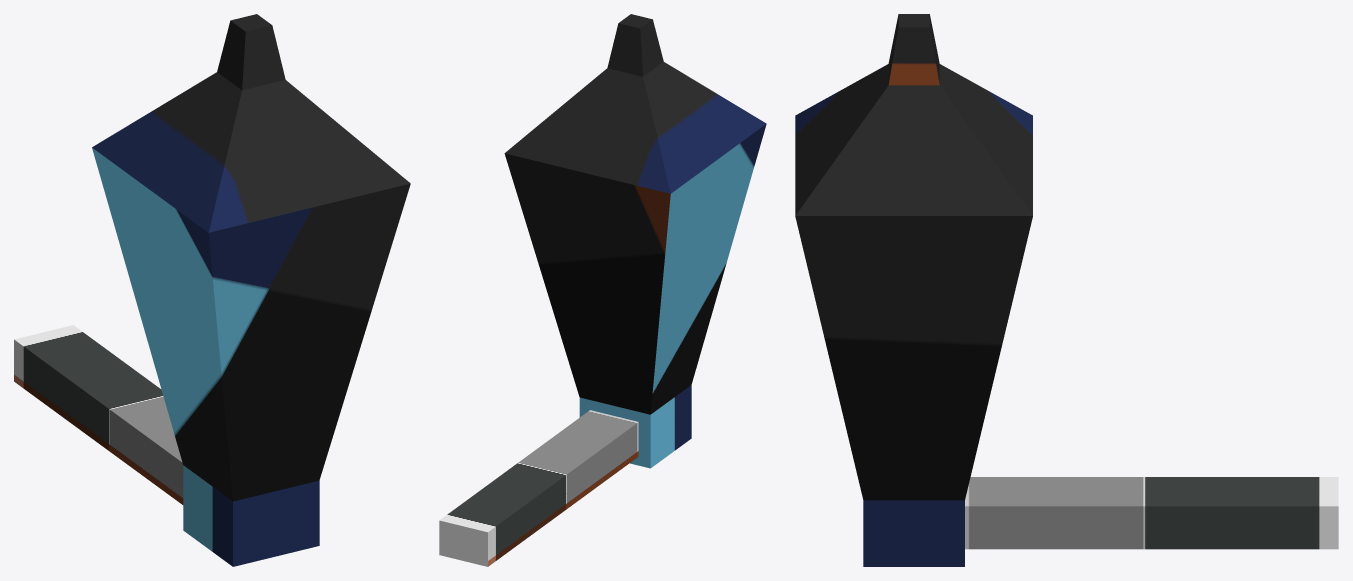
Rendered from env_wall_lamp.fbx.
3 renders of one model, left to right at view 1: azimuth 30°, elevation 25°; view 2: azimuth 150°, elevation 25°; view 3: azimuth 270°, elevation 25°, orthographic. The views are drawn at different scales.
Parts seen in each view (by area): view 1: lamp, wall_lamp; view 2: lamp, wall_lamp; view 3: lamp, wall_lamp.
Boxes of the visible parts, <box> form: lamp: <box>92,14,410,566</box>; wall_lamp: <box>14,325,183,504</box>; lamp: <box>504,14,766,468</box>; wall_lamp: <box>439,410,638,566</box>; lamp: <box>795,14,1032,566</box>; wall_lamp: <box>965,477,1338,549</box>.
Size of the model in its own units: 35.07 by 85.38 by 80.13.
1 material, 1 textured.
